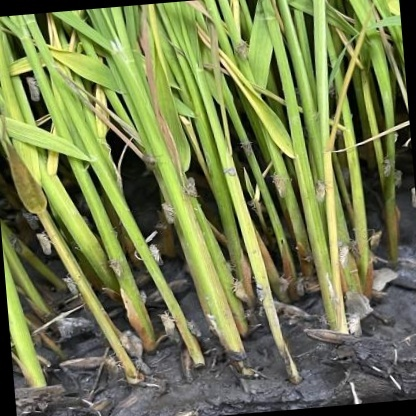Brown_hopper: (18, 73, 51, 107), (132, 149, 171, 177), (225, 38, 261, 66), (341, 310, 370, 342), (99, 354, 131, 383), (363, 225, 394, 254), (157, 308, 184, 341), (30, 230, 59, 260), (153, 201, 186, 227), (268, 172, 295, 203), (225, 278, 254, 303), (312, 176, 334, 207), (140, 243, 168, 267), (235, 135, 261, 160), (60, 274, 86, 299), (184, 176, 206, 204), (105, 257, 128, 282), (377, 153, 397, 181), (270, 274, 296, 292), (112, 334, 138, 352), (390, 168, 411, 190), (337, 244, 353, 272)
